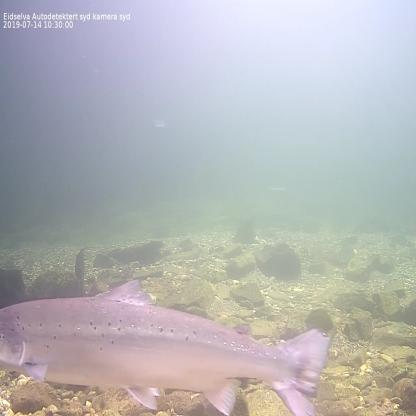salmon: (0, 276, 334, 416)
